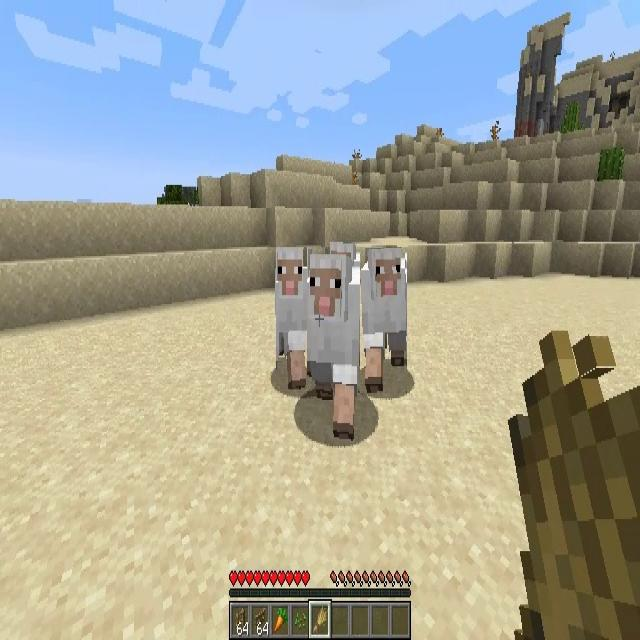sheep: (305, 255, 360, 438), (360, 248, 407, 393), (276, 247, 307, 390)
